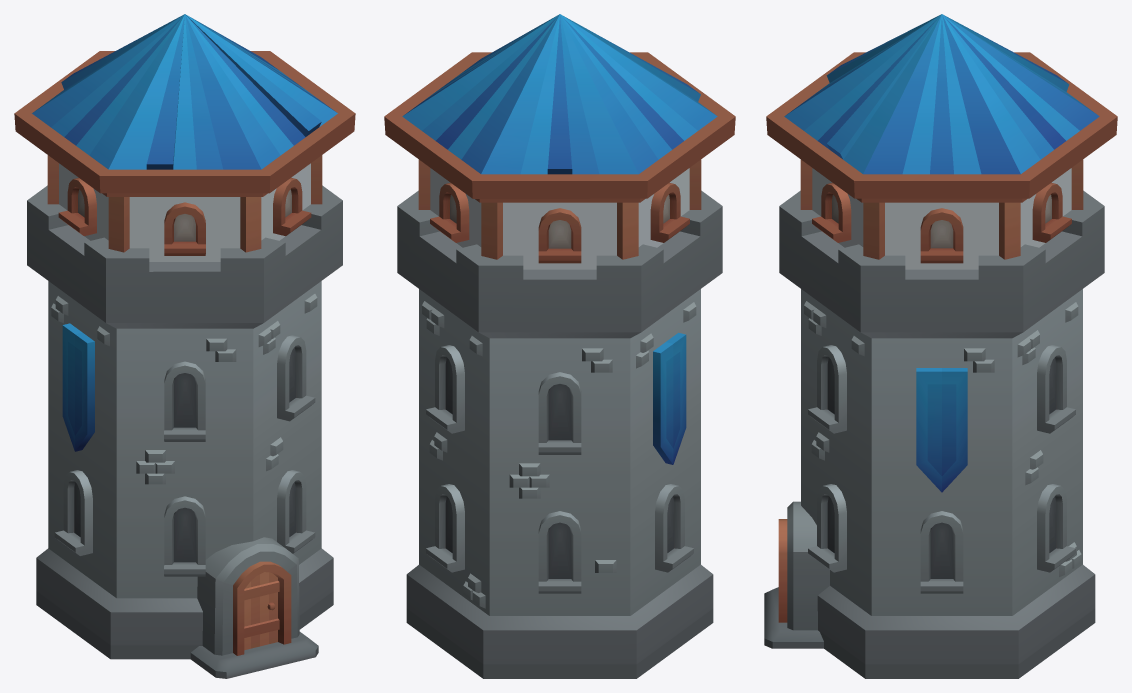
The model's file is kay-torre-vigia.gltf.
3 renders of one model, left to right at view 1: azimuth 30°, elevation 25°; view 2: azimuth 150°, elevation 25°; view 3: azimuth 270°, elevation 25°, orthographic. The views are drawn at different scales.
Visible parts, largest first — view 1: building_tower_A_blue; view 2: building_tower_A_blue; view 3: building_tower_A_blue.
Part boxes in pixels (bbox=[...]): building_tower_A_blue: bbox=[14, 14, 355, 678]; building_tower_A_blue: bbox=[384, 14, 735, 678]; building_tower_A_blue: bbox=[764, 14, 1117, 678].
Bounding box in the file's own units: 4.97 × 10.96 × 5.77.
Materials: 1 (1 with a texture image).
